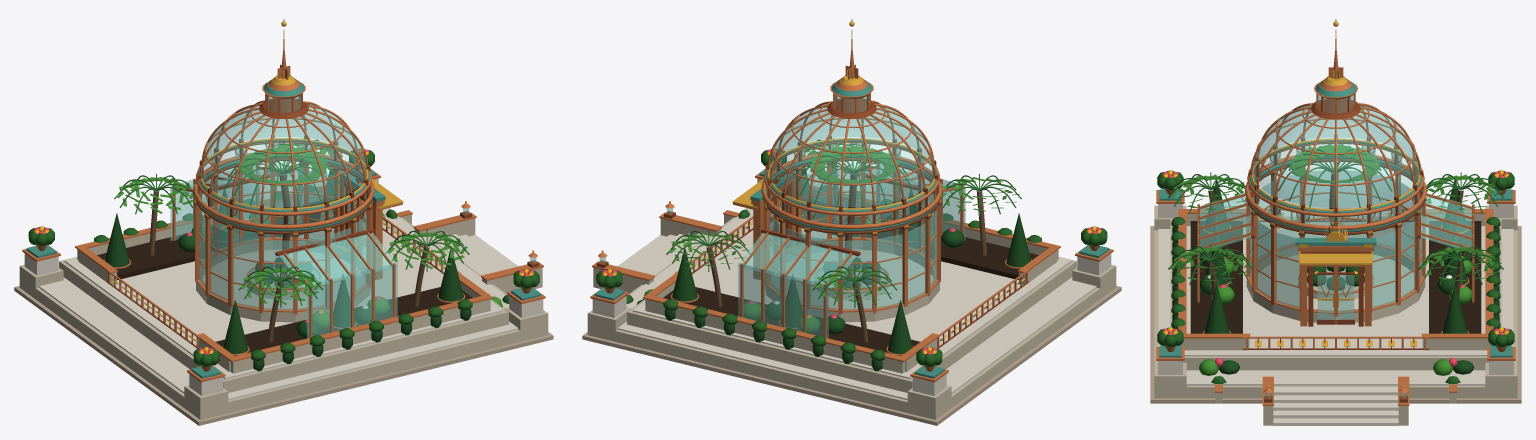
File: demo-art-deco-conservatory.glb
3 views of the same model, side by side, from view 1: azimuth 30°, elevation 25°; view 2: azimuth 150°, elevation 25°; view 3: azimuth 270°, elevation 25° (orthographic).
Visible parts, largest first — view 1: Mesh_DomeGlassShell, Mesh_TerraceFloor, Mesh_PlinthPaving, Mesh_PlinthMain, Mesh_TerracePodium, Mesh_WingGlassSide_1, Mesh_PlinthBase, Mesh_WingRoofGlass_1, Mesh_InteriorFloor, Mesh_TerraceSoil_-1, Mesh_TerraceParapet_1, Mesh_TerraceSoil_1 (+32 smaller); view 2: Mesh_DomeGlassShell, Mesh_TerraceFloor, Mesh_PlinthPaving, Mesh_PlinthMain, Mesh_TerracePodium, Mesh_WingGlassSide_-1, Mesh_PlinthBase, Mesh_WingRoofGlass_-1, Mesh_InteriorFloor, Mesh_TerraceSoil_1, Mesh_TerraceParapet_-1, Mesh_TerraceSoil_-1 (+32 smaller); view 3: Mesh_DomeGlassShell, Mesh_TerraceFloor, Mesh_PlinthPaving, Mesh_TerracePodium, Mesh_PlinthMain, Mesh_InteriorFloor, Mesh_PlinthBase, Mesh_TerraceSoil_-1, Mesh_TerraceSoil_1, Mesh_WingRoofGlass_-1, Mesh_WingRoofGlass_1, Mesh_WindowGlass_1 (+53 smaller).
Part boxes in pixels (left/top/right/bottom): Mesh_DomeGlassShell: left=202, top=103, right=366, bottom=206; Mesh_TerraceFloor: left=64, top=222, right=503, bottom=379; Mesh_PlinthPaving: left=39, top=208, right=518, bottom=400; Mesh_PlinthMain: left=19, top=208, right=548, bottom=419; Mesh_TerracePodium: left=59, top=220, right=508, bottom=392; Mesh_WingGlassSide_1: left=307, top=263, right=397, bottom=338; Mesh_PlinthBase: left=14, top=286, right=553, bottom=425; Mesh_WingRoofGlass_1: left=279, top=233, right=398, bottom=288; Mesh_InteriorFloor: left=203, top=249, right=364, bottom=308; Mesh_TerraceSoil_-1: left=97, top=201, right=333, bottom=279; Mesh_TerraceParapet_1: left=230, top=299, right=490, bottom=373; Mesh_TerraceSoil_1: left=216, top=287, right=472, bottom=355; Mesh_DomeGlassShell: left=769, top=103, right=933, bottom=206; Mesh_TerraceFloor: left=632, top=222, right=1071, bottom=379; Mesh_PlinthPaving: left=617, top=208, right=1096, bottom=400; Mesh_PlinthMain: left=587, top=208, right=1116, bottom=419; Mesh_TerracePodium: left=627, top=220, right=1076, bottom=392; Mesh_WingGlassSide_-1: left=738, top=263, right=828, bottom=338; Mesh_PlinthBase: left=582, top=286, right=1121, bottom=425; Mesh_WingRoofGlass_-1: left=737, top=233, right=856, bottom=288; Mesh_InteriorFloor: left=771, top=249, right=932, bottom=308; Mesh_TerraceSoil_1: left=802, top=200, right=1038, bottom=279; Mesh_TerraceParapet_-1: left=645, top=299, right=905, bottom=373; Mesh_TerraceSoil_-1: left=663, top=287, right=919, bottom=355; Mesh_DomeGlassShell: left=1252, top=105, right=1419, bottom=207; Mesh_TerraceFloor: left=1184, top=218, right=1487, bottom=356; Mesh_PlinthPaving: left=1158, top=217, right=1513, bottom=385; Mesh_TerracePodium: left=1170, top=218, right=1501, bottom=370; Mesh_PlinthMain: left=1154, top=230, right=1517, bottom=398; Mesh_InteriorFloor: left=1258, top=255, right=1413, bottom=310; Mesh_PlinthBase: left=1150, top=226, right=1521, bottom=403; Mesh_TerraceSoil_-1: left=1429, top=221, right=1481, bottom=333; Mesh_TerraceSoil_1: left=1190, top=221, right=1242, bottom=333; Mesh_WingRoofGlass_-1: left=1421, top=193, right=1471, bottom=251; Mesh_WingRoofGlass_1: left=1200, top=193, right=1250, bottom=252; Mesh_WindowGlass_1: left=1276, top=232, right=1299, bottom=308.
Bounding box in the file's own units: 23.05 × 16.54 × 18.4.
